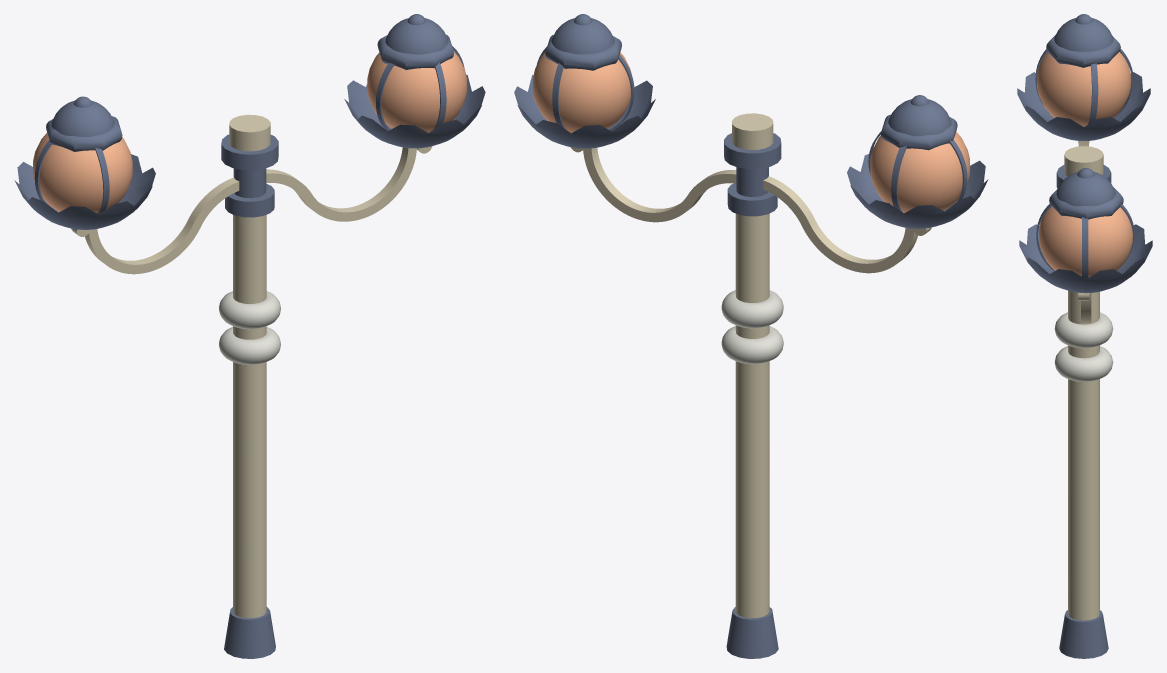
The model's file is roadlight.obj.
3 renders of one model, left to right at view 1: azimuth 30°, elevation 25°; view 2: azimuth 150°, elevation 25°; view 3: azimuth 270°, elevation 25°, orthographic. The views are drawn at different scales.
Parts seen in each view (by area): view 1: ???_4, ??_2, ??, ???_3, ??_3, ??_1, ??.1_2, ??.1, ???.1_3, ???_2, ??.1_1, ??.1_3 (+11 smaller); view 2: ???_4, ??, ??_2, ???_3, ??_3, ??_1, ??.1_2, ??.1, ???.1_3, ???_2, ??.1_3, ???.4_2 (+11 smaller); view 3: ???_4, ??_2, ??, ???_3, ??_1, ??_3, ??.1, ??.1_2, ???_2, ???.1_3, ??.1_3, ??.1_1 (+7 smaller).
Part boxes in pixels (x1,y1,x2,y2): ???_4: [233, 215, 266, 618]; ??_2: [33, 132, 132, 213]; ??: [367, 51, 466, 132]; ???_3: [224, 607, 275, 658]; ??_3: [18, 186, 152, 229]; ??_1: [347, 105, 481, 148]; ??.1_2: [51, 100, 114, 136]; ??.1: [385, 18, 448, 54]; ???.1_3: [219, 291, 280, 329]; ???_2: [219, 327, 280, 364]; ??.1_1: [344, 74, 485, 129]; ??.1_3: [14, 154, 155, 212]; ???_4: [735, 213, 769, 618]; ??: [533, 52, 631, 133]; ??_2: [870, 131, 969, 213]; ???_3: [726, 607, 778, 658]; ??_3: [850, 185, 985, 228]; ??_1: [517, 103, 653, 148]; ??.1_2: [888, 99, 951, 136]; ??.1: [551, 18, 614, 54]; ???.1_3: [721, 290, 783, 328]; ???_2: [721, 326, 783, 364]; ??.1_3: [847, 154, 988, 211]; ???.4_2: [732, 113, 773, 149]; ???_4: [1068, 290, 1099, 620]; ??_2: [1037, 52, 1130, 126]; ??: [1039, 206, 1132, 277]; ???_3: [1059, 610, 1108, 658]; ??_1: [1027, 257, 1144, 293]; ??_3: [1025, 105, 1142, 140]; ??.1: [1056, 171, 1115, 206]; ??.1_2: [1054, 18, 1113, 51]; ???_2: [1054, 346, 1113, 381]; ???.1_3: [1054, 312, 1113, 348]; ??.1_3: [1017, 72, 1150, 121]; ??.1_1: [1019, 224, 1152, 273].
Size of the model in its own units: 258 by 323 by 71.21.
